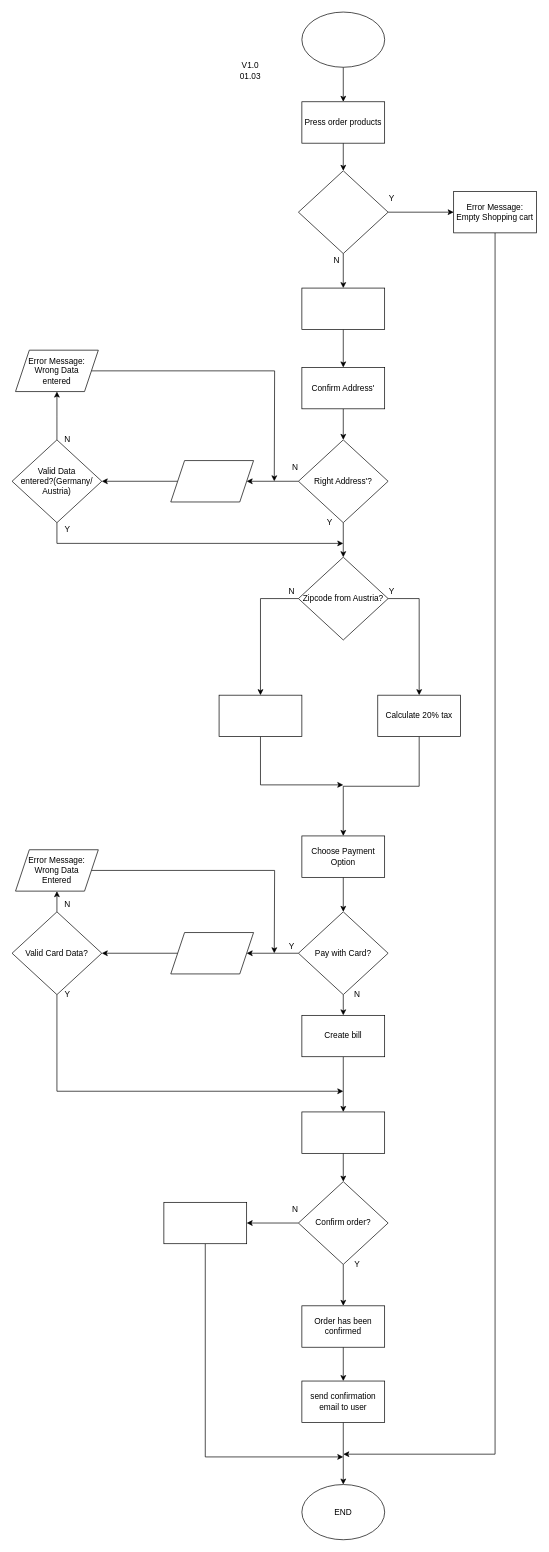
Some shapes in this 549 by 1552 pixel diagram are drawn without their labels. The centre of each missing label's shape, as x and y in pixels:
"Calculate 19% tax" goes at pixel 260 715.
"Cancel Order" goes at pixel 205 1223.
"Enter Card Data" goes at pixel 212 953.
"Enter new Data" goes at pixel 212 481.
"Load Shipping and Billing Address from DB" goes at pixel 343 308.
"Please confirm your order" goes at pixel 343 1132.
"Shopping Cart Empty?" goes at pixel 343 212.
"START" goes at pixel 343 39.
